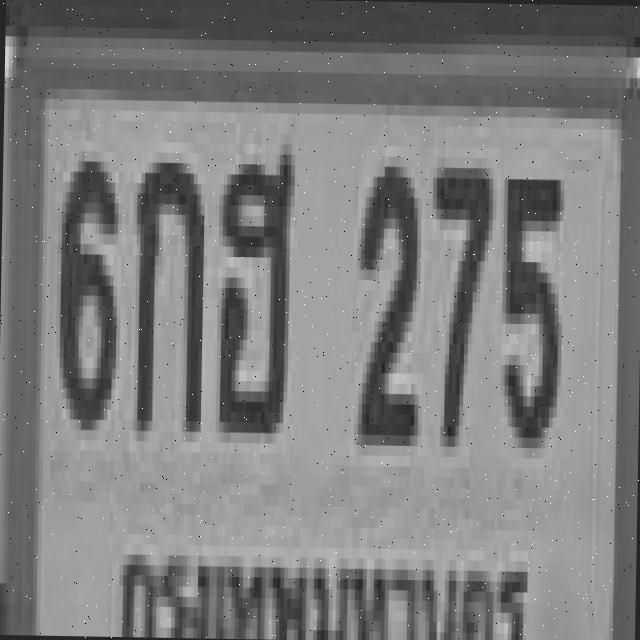10GorGai: (129, 152, 201, 422)
2: (354, 155, 418, 435)
5: (496, 168, 560, 438)
53HorNokHook: (212, 143, 292, 423)
6: (54, 150, 115, 420)
7: (428, 157, 489, 436)
